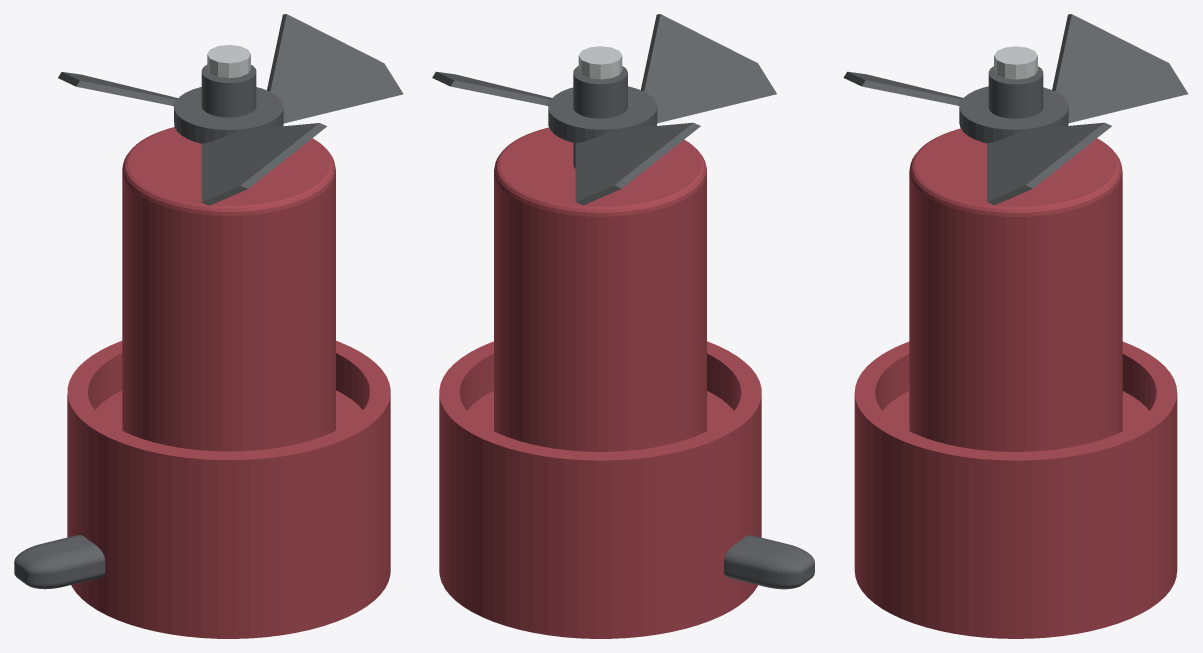
Rendered from bilge_pump.glb.
The picture shows the model from 3 angles, left to right: view 1: azimuth 30°, elevation 25°; view 2: azimuth 150°, elevation 25°; view 3: azimuth 270°, elevation 25°; orthographic projection.
Visible parts, largest first — view 1: Mesh_Mesh_head_geo.001_lambert2SG.001; view 2: Mesh_Mesh_head_geo.001_lambert2SG.001; view 3: Mesh_Mesh_head_geo.001_lambert2SG.001.
Part boxes in pixels (bbox=[...]): Mesh_Mesh_head_geo.001_lambert2SG.001: bbox=[14, 14, 403, 638]; Mesh_Mesh_head_geo.001_lambert2SG.001: bbox=[432, 14, 814, 638]; Mesh_Mesh_head_geo.001_lambert2SG.001: bbox=[843, 14, 1188, 638].
Bounding box in the file's own units: 77.73 × 104 × 63.13.
